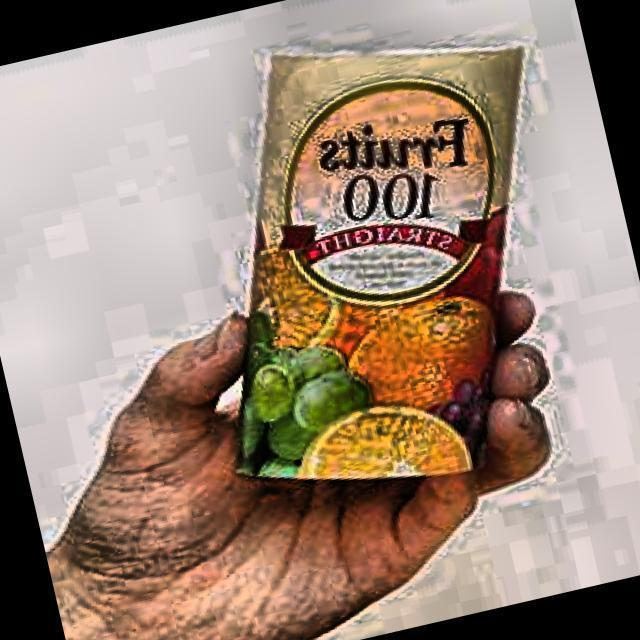cardboard: (145, 0, 618, 521)
